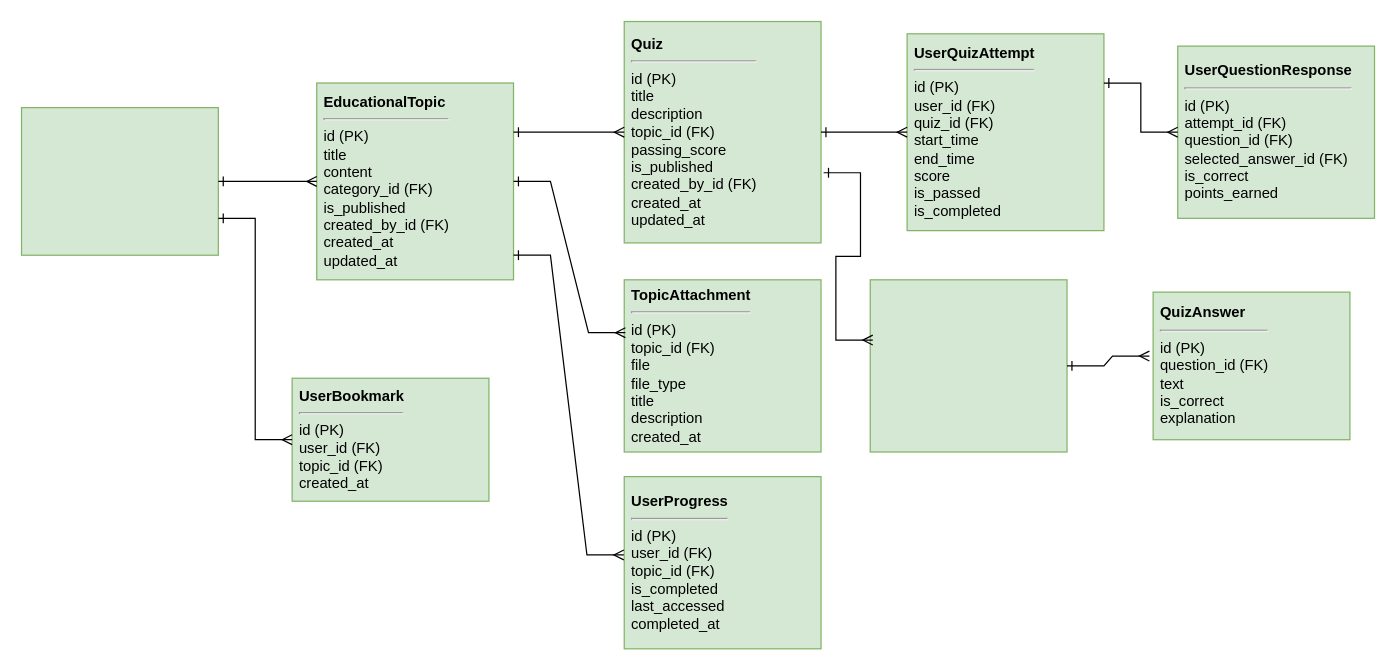
This 1396x670 diagram has some shape labels left out. Here are the shapes that lost their labels. From the top down, the centre of each, then its label:
At point (119, 180): "EducationalCategory id (PK) title description order created_at".
At point (968, 365): "QuizQuestion id (PK) quiz_id (FK) text question_type points order image".
